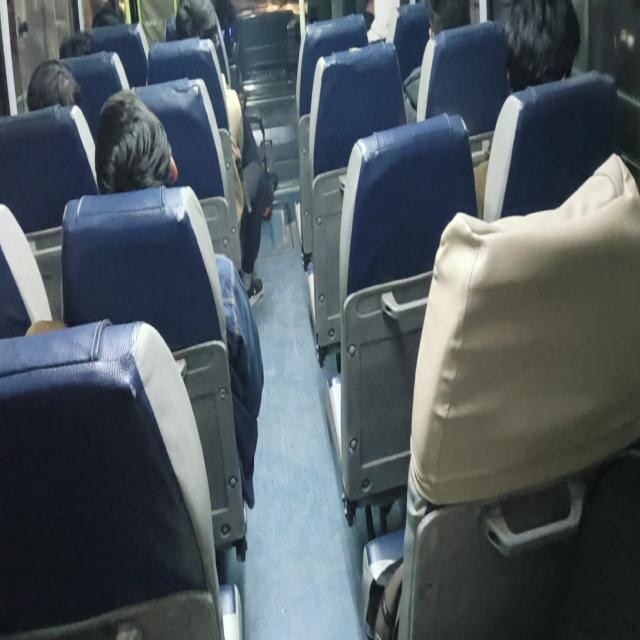person: (94, 88, 264, 508), (174, 0, 277, 306), (472, 0, 581, 218), (26, 58, 98, 186), (94, 88, 178, 194), (403, 0, 471, 121), (504, 0, 580, 92), (26, 58, 82, 111), (365, 0, 400, 45)
